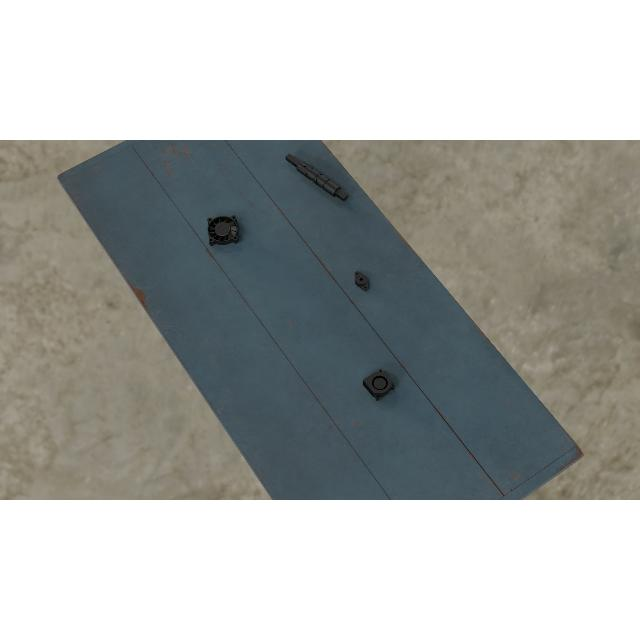Pieza1: (283, 150, 349, 206)
Pieza2: (351, 268, 373, 294)
Pieza3: (362, 366, 396, 402)
Pieza4: (207, 215, 239, 247)
